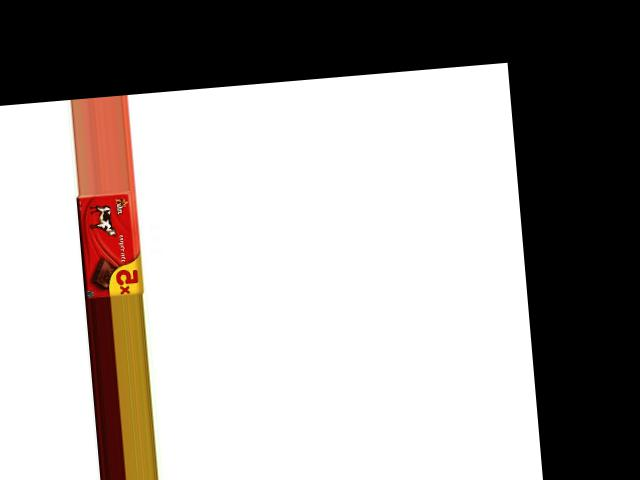chocolate: (76, 189, 146, 298)
